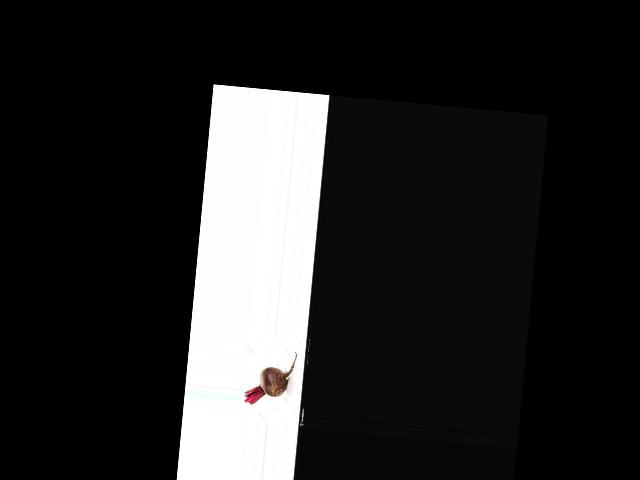beet: (244, 347, 297, 407)
